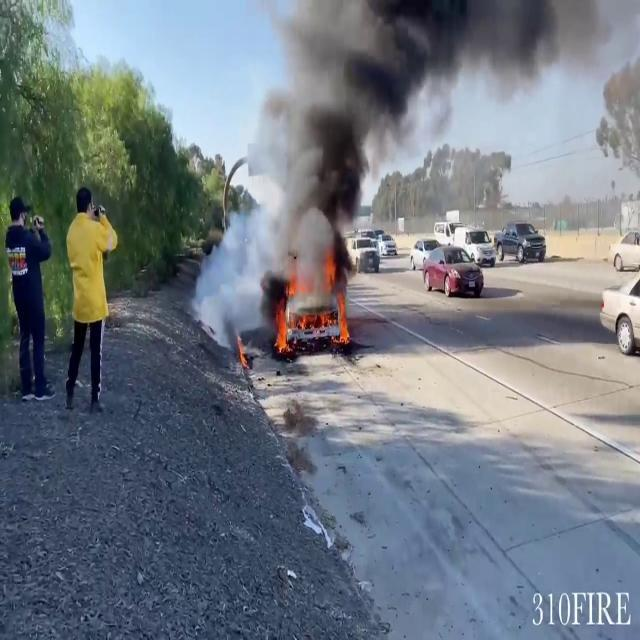Fire: (278, 266, 354, 352)
Smoke: (245, 0, 456, 306), (194, 194, 282, 354)
